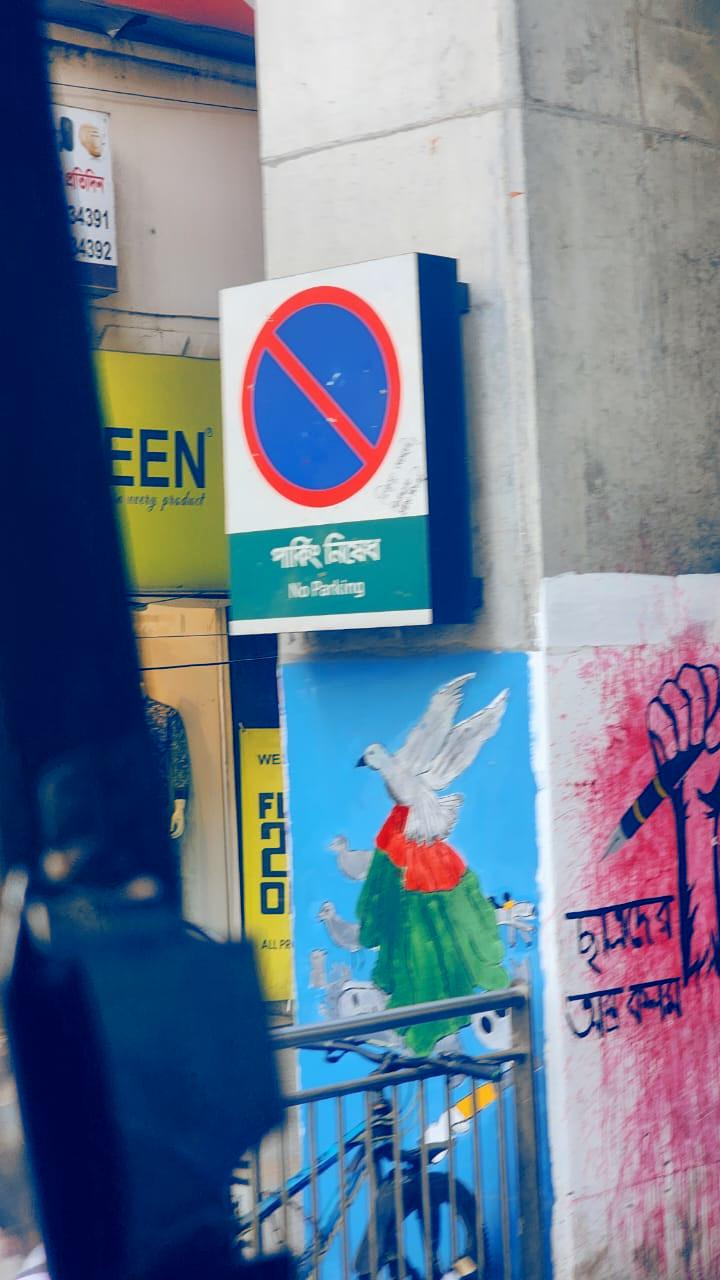No Parking: (216, 246, 469, 626)
